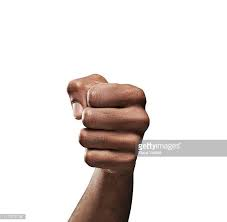fist: (69, 80, 146, 164)
